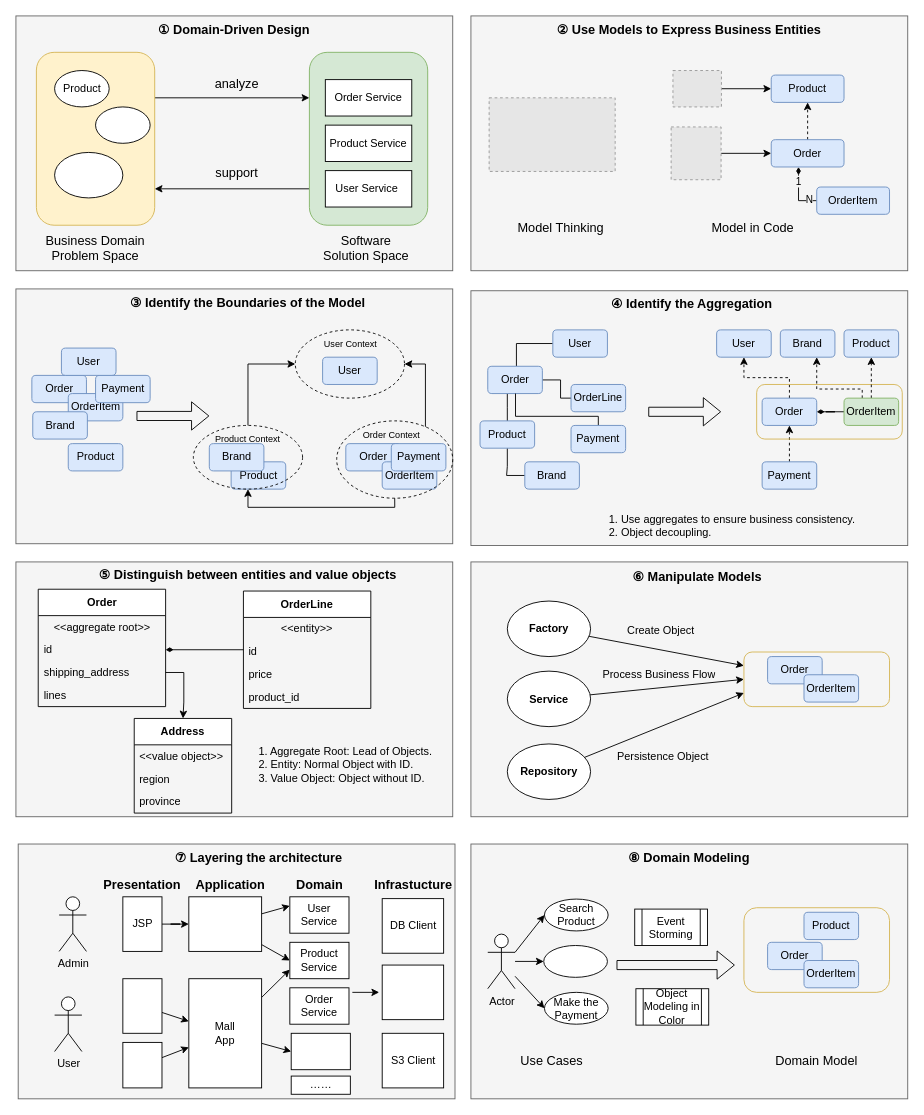
This 924x1115 diagram has some shape labels left out. Grey dashed boxes stand in for pictures. The centre of each missing label's shape, as x and y in pixels:
"Admin console" goes at (225,923).
"Create Order" goes at (575,961).
"Customer Service" goes at (88,175).
"Payment Service" goes at (320,1051).
"Redis Client" goes at (412,992).
"REST API" goes at (142,1005).
"Sales" goes at (122,124).
"Web Socket" goes at (142,1064).
